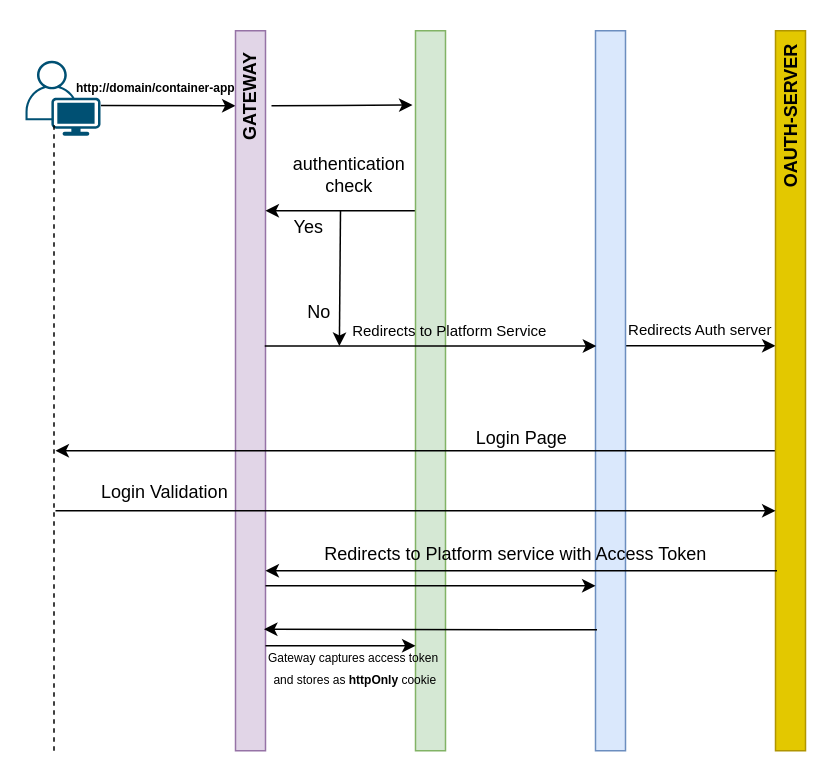
Image size: 840x779. Some labels were removed from this diagram. Each missing label, with the box of its shape:
CONTAINER-UI: (414, 29, 446, 751)
PLATFORM-SERVICE: (594, 29, 626, 751)
